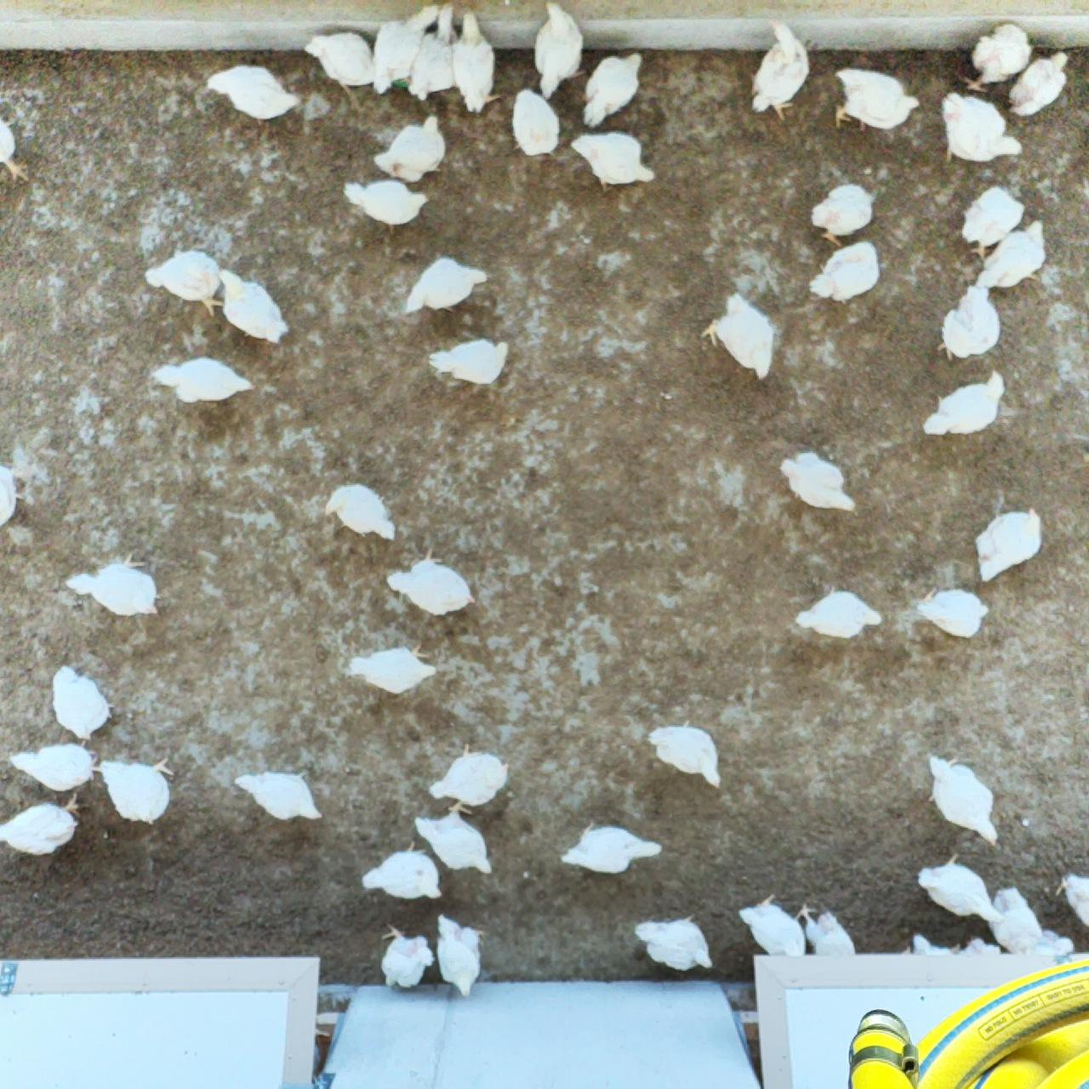chicken: (925, 749, 1002, 849), (698, 289, 778, 385), (63, 548, 162, 622), (384, 546, 479, 622), (936, 90, 1026, 167), (749, 17, 813, 125), (371, 2, 442, 98), (830, 65, 924, 136), (916, 849, 1003, 925), (560, 818, 666, 878), (144, 246, 227, 322), (413, 802, 497, 877), (531, 0, 590, 105), (921, 369, 1009, 439), (215, 268, 292, 347), (972, 505, 1047, 586), (204, 61, 300, 124), (645, 716, 724, 792), (450, 8, 505, 116), (99, 749, 175, 827), (371, 110, 449, 185), (567, 129, 657, 194), (402, 253, 489, 320), (935, 281, 1005, 364), (0, 791, 88, 857), (404, 3, 462, 103), (426, 741, 513, 807), (48, 663, 117, 745), (976, 217, 1049, 294), (152, 354, 258, 407), (361, 837, 446, 903), (960, 20, 1035, 94), (304, 30, 375, 108), (777, 450, 859, 517), (631, 913, 718, 976), (794, 582, 883, 643), (347, 637, 439, 696), (340, 178, 432, 236), (580, 50, 646, 130), (233, 767, 325, 824), (960, 184, 1028, 261), (7, 740, 103, 794), (807, 239, 882, 307), (736, 893, 807, 961), (805, 182, 878, 248), (913, 582, 992, 642), (324, 480, 399, 543), (434, 912, 488, 999), (428, 334, 513, 389), (1005, 50, 1072, 118), (986, 885, 1048, 958), (377, 921, 435, 992), (510, 87, 563, 164), (800, 899, 859, 957), (0, 117, 36, 188), (0, 456, 34, 529), (1049, 870, 1089, 930)
